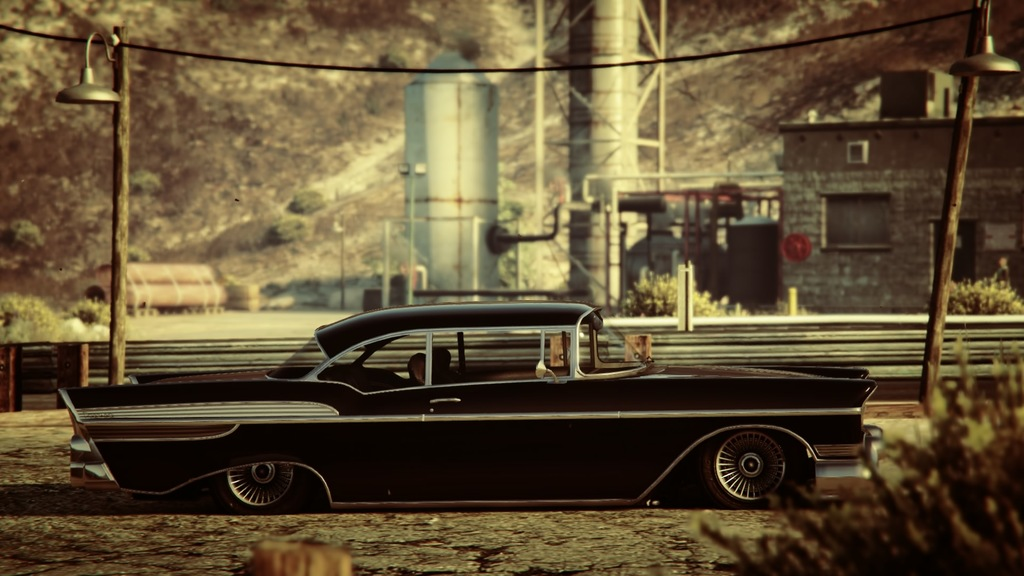Car: (57, 293, 885, 510)
